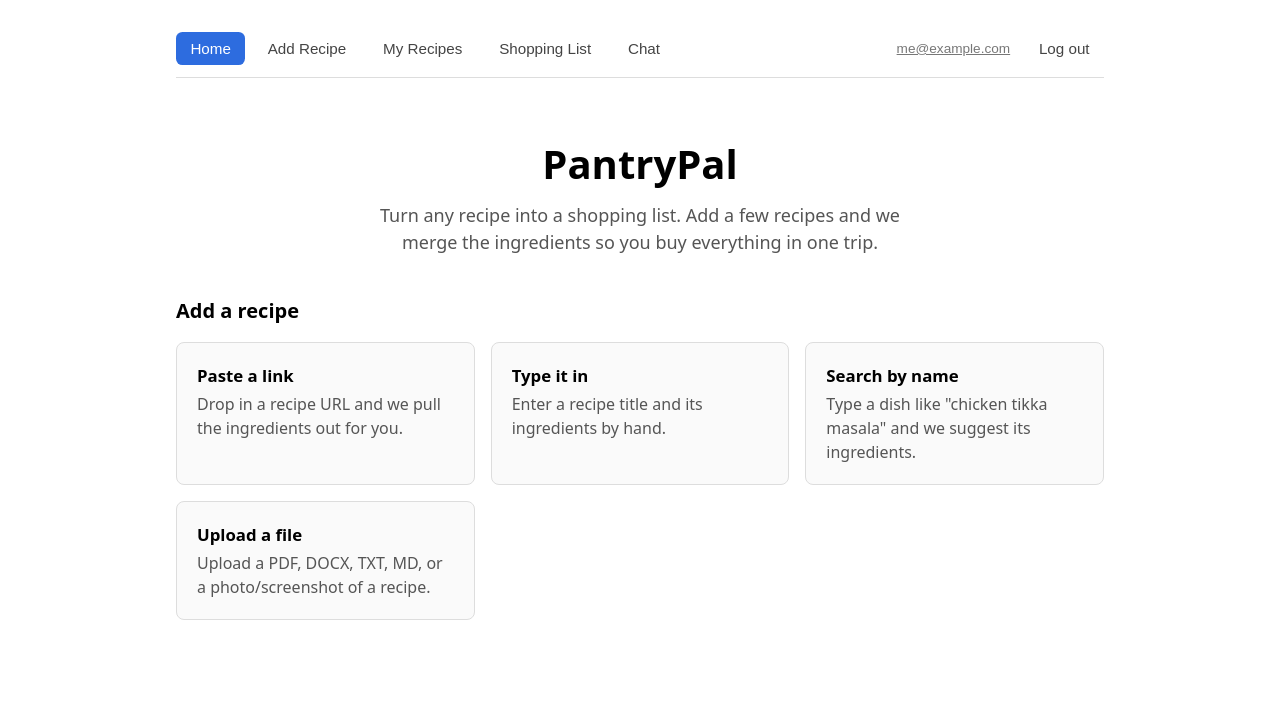
Test: clicking the logged-in email navigates to the account page
Click the button "me@example.com" at [953, 48], box [890,33,1016,64]
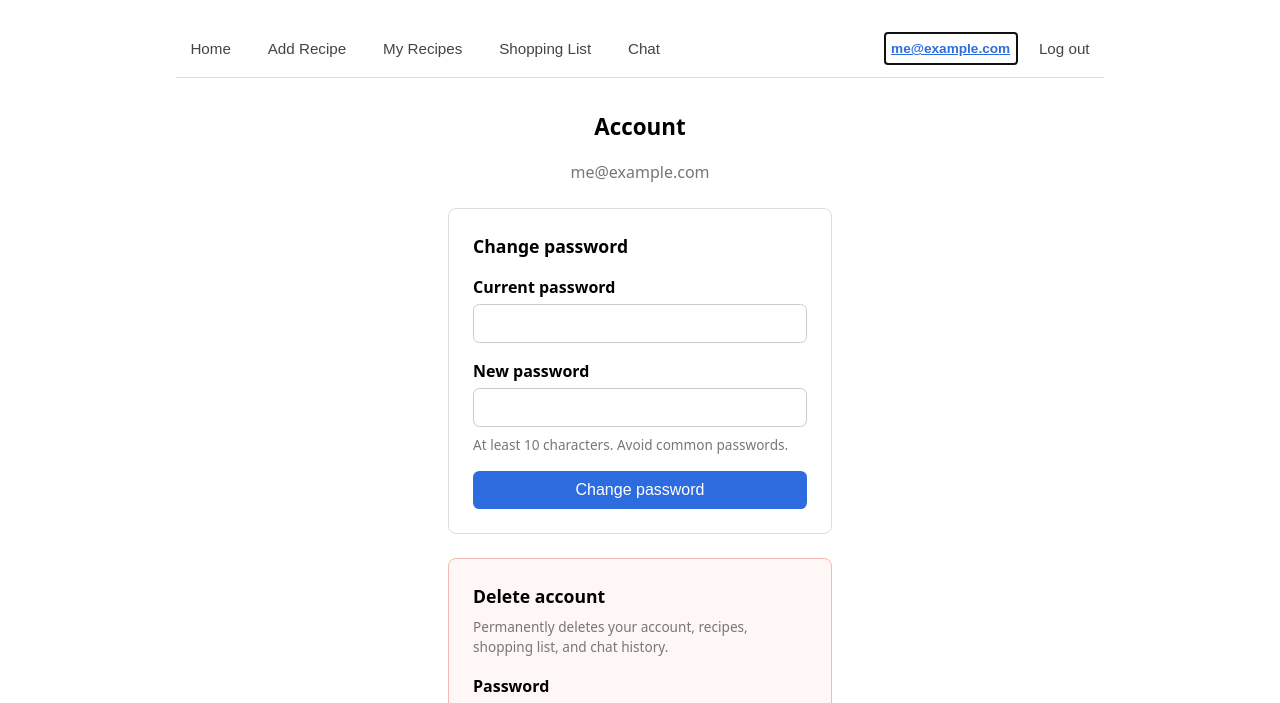
Expected: the heading "Change password" is shown, [473,234,628,258]
Expected: the heading "Delete account" is shown, [473,584,605,608]
